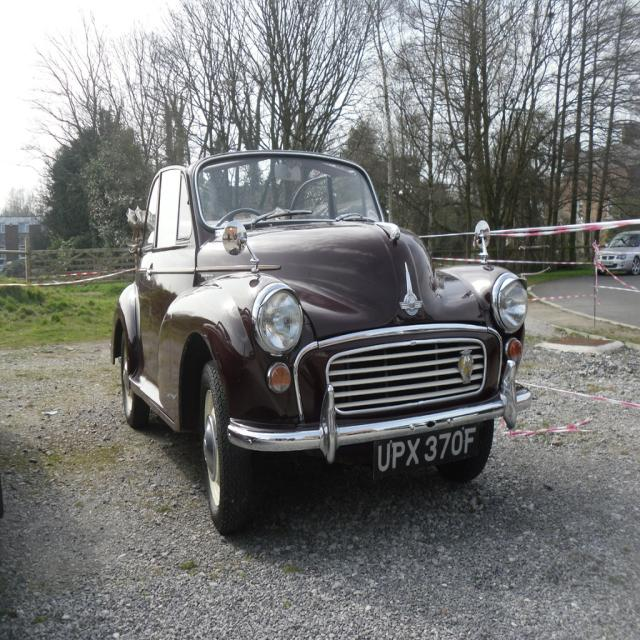car: (112, 138, 527, 526)
